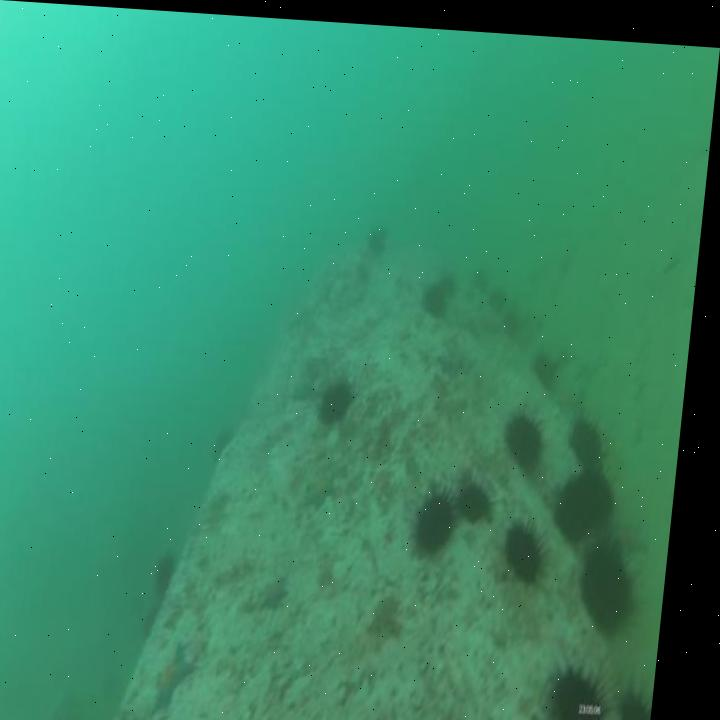echinus: (590, 531, 650, 628), (567, 460, 626, 534), (564, 658, 624, 720), (427, 483, 467, 551), (513, 515, 554, 574), (511, 404, 552, 459), (326, 374, 362, 422), (576, 409, 610, 455), (465, 476, 501, 513), (425, 276, 453, 311), (166, 548, 188, 586), (541, 344, 564, 379), (372, 216, 393, 249)
starfish: (165, 639, 210, 705), (274, 572, 301, 608)
